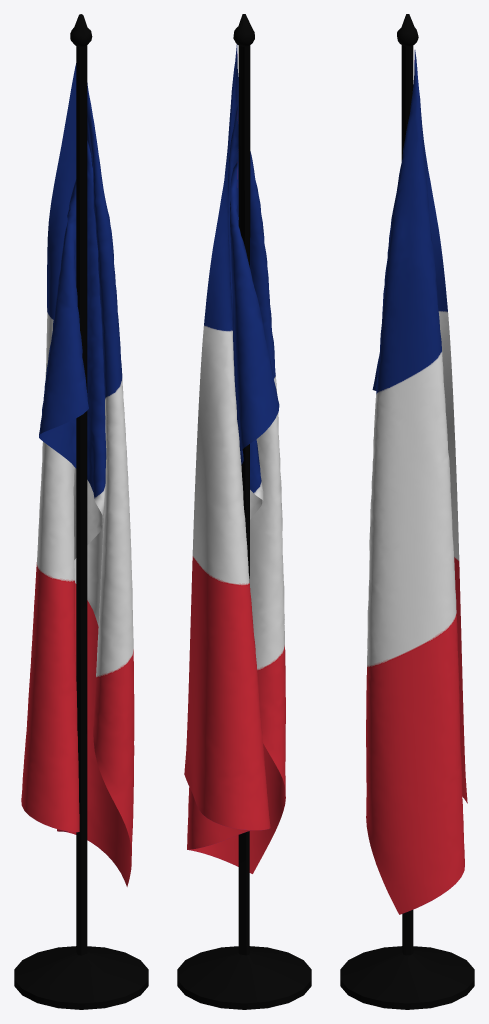
Rendered from French flag.fbx.
The picture shows the model from 3 angles, left to right: view 1: azimuth 90°, elevation 25°; view 2: azimuth 150°, elevation 25°; view 3: azimuth 330°, elevation 25°; orthographic projection.
Parts seen in each view (by area): view 1: French flag; view 2: French flag; view 3: French flag.
Boxes of the visible parts, bbox=[...] form: French flag: bbox=[14, 14, 148, 1009]; French flag: bbox=[177, 14, 311, 1009]; French flag: bbox=[340, 14, 474, 1009].
Size of the model in its own units: 10.87 by 84.15 by 10.61.
Materials: 2 (1 with a texture image).
